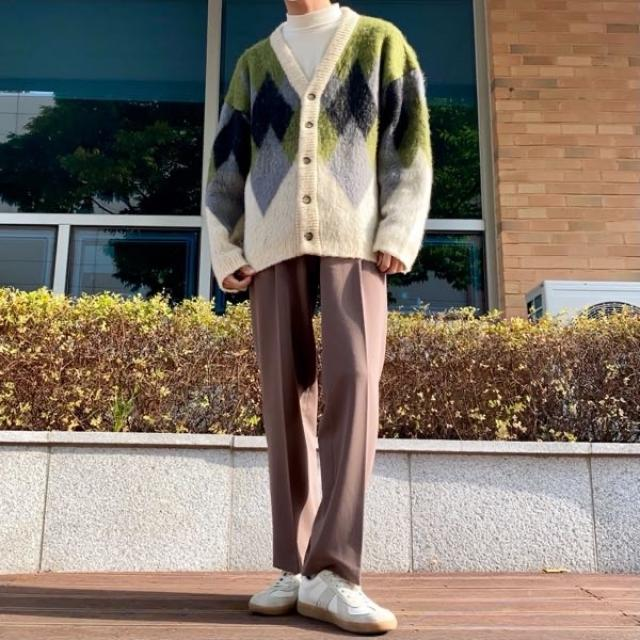cardigan: (205, 12, 432, 295)
slacks: (246, 248, 388, 581)
